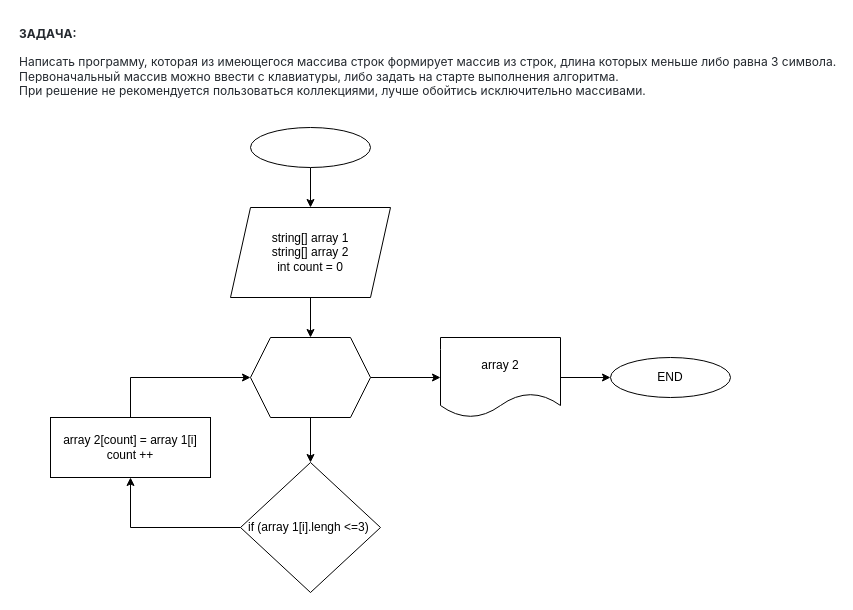
Image size: 853x610. Some labels were removed from this diagram. The shapes that lost their labels are listed below. From the top down, each one's box as (x1, y1, x2, y2) in pixels, then its label:
(250, 126, 370, 168): Start
(250, 336, 370, 418): for (int i = 0; i < array 1.lengh; i++)
